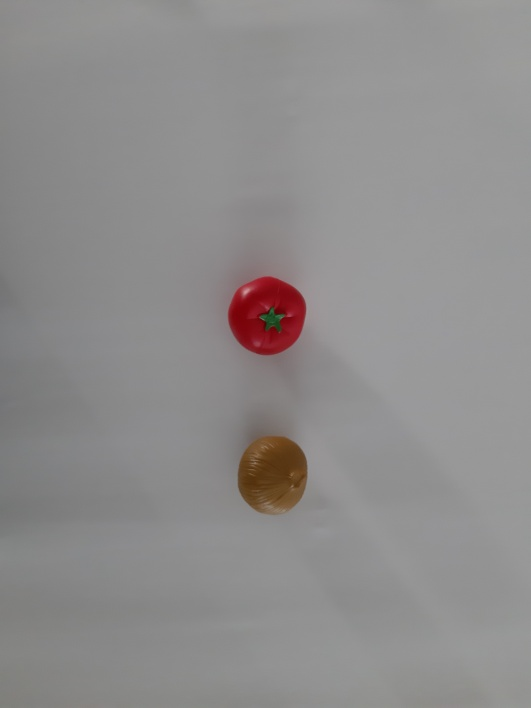onion: (224, 426, 328, 530)
tomato: (212, 259, 326, 362)
